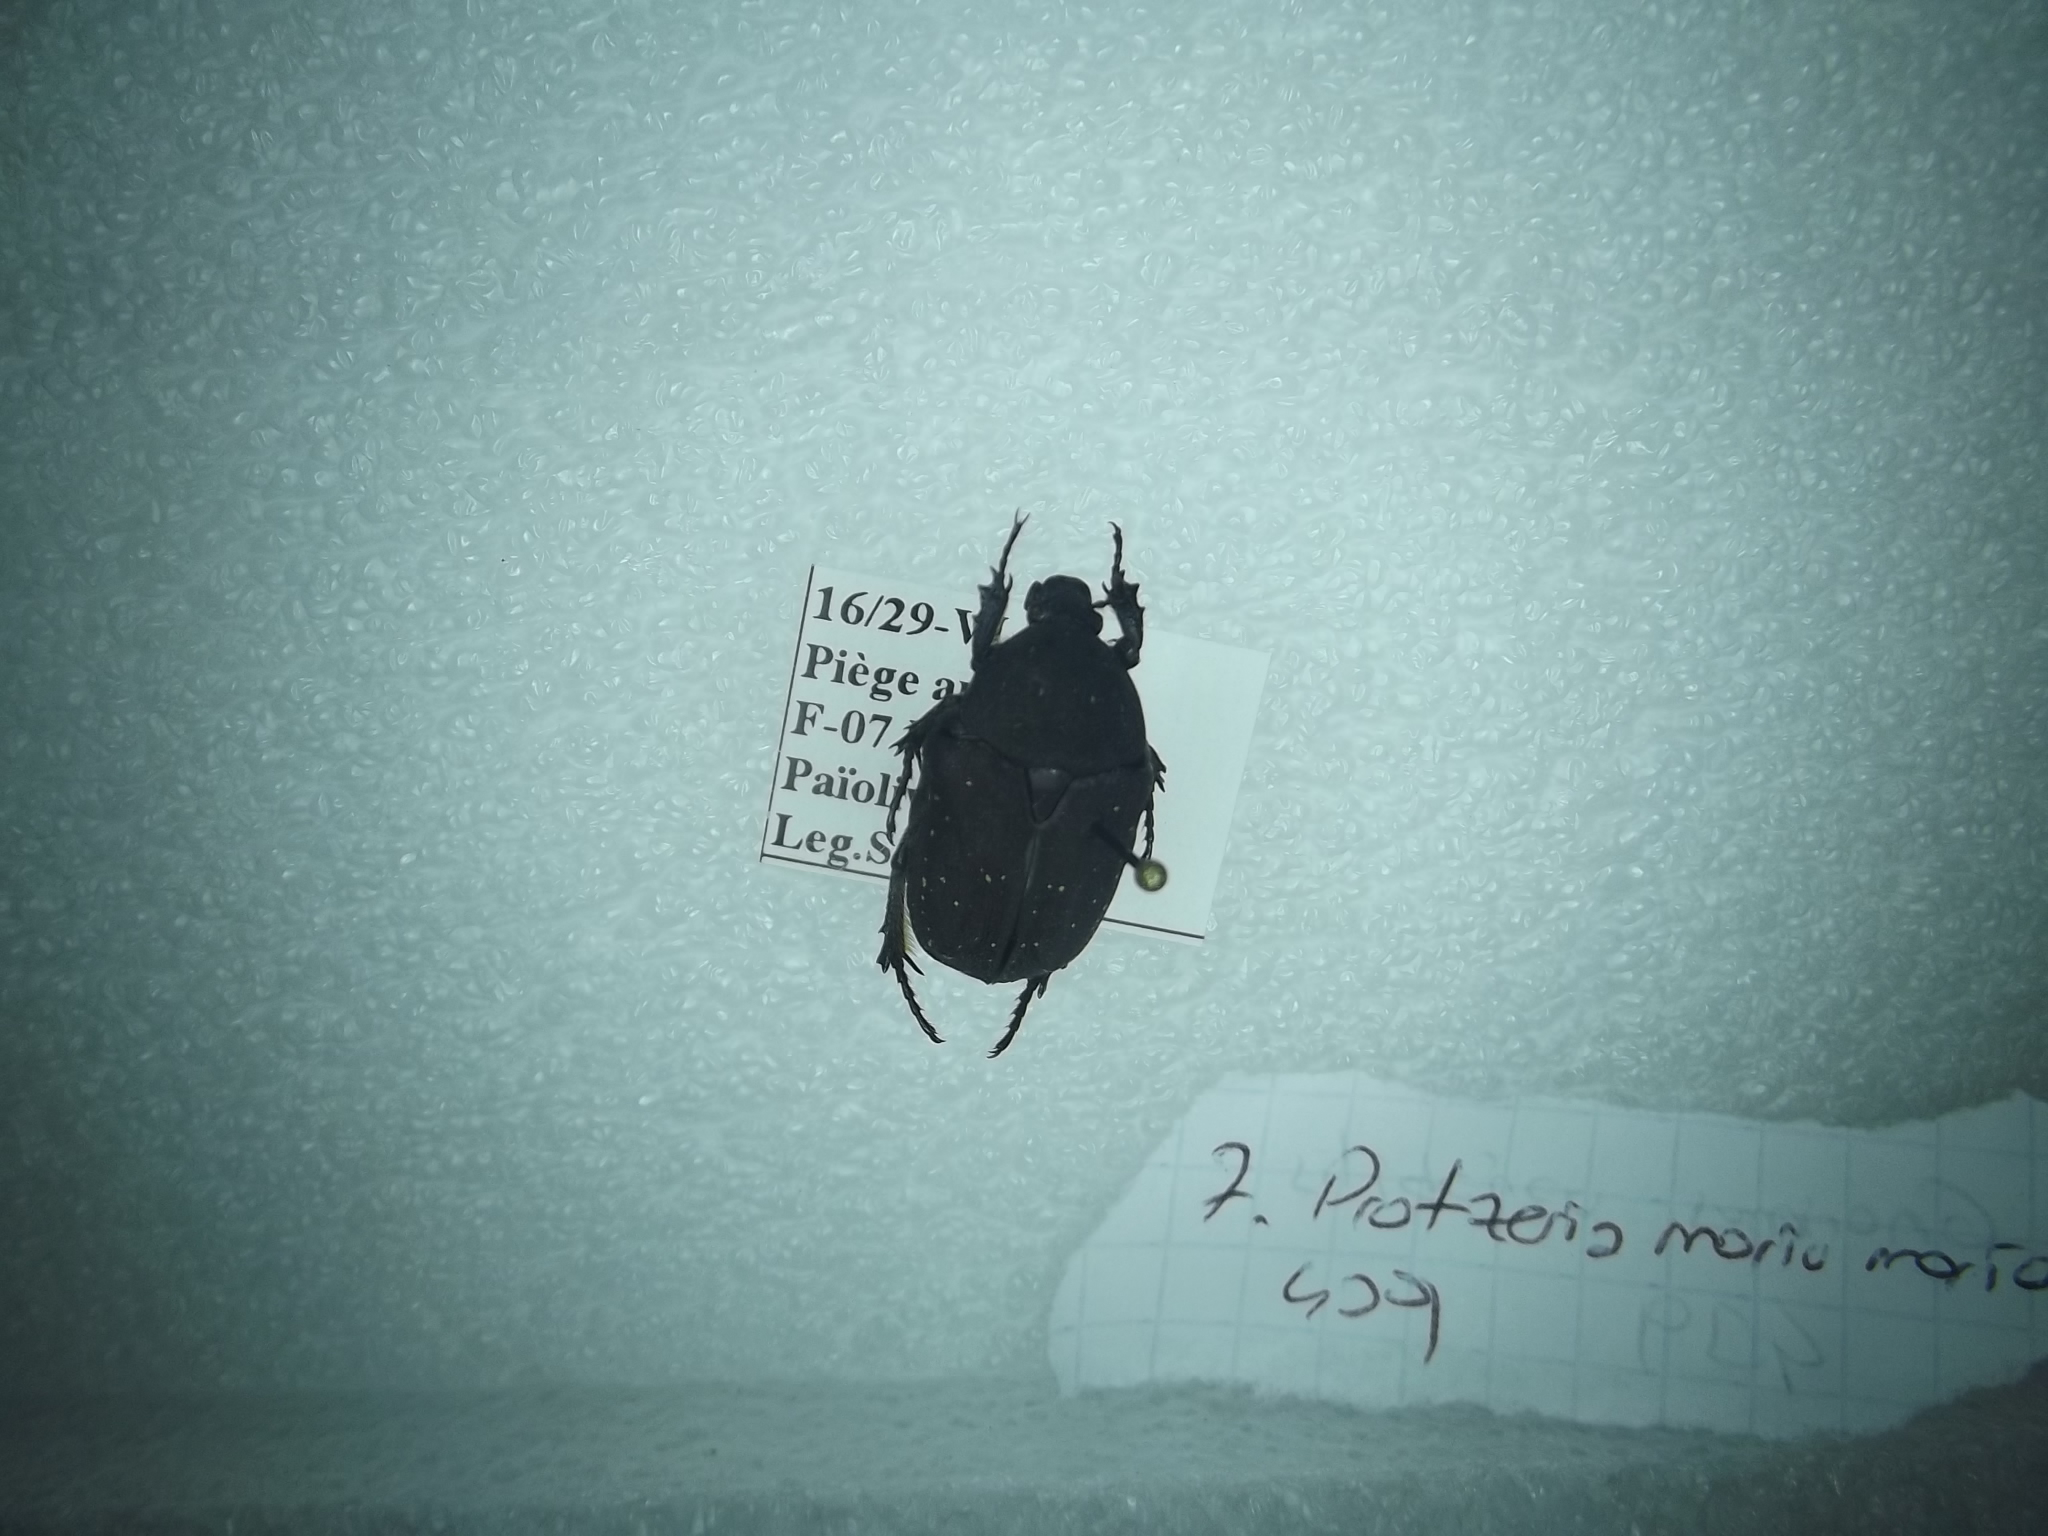Protaetia_morio_morio: (869, 510, 1176, 1070)
